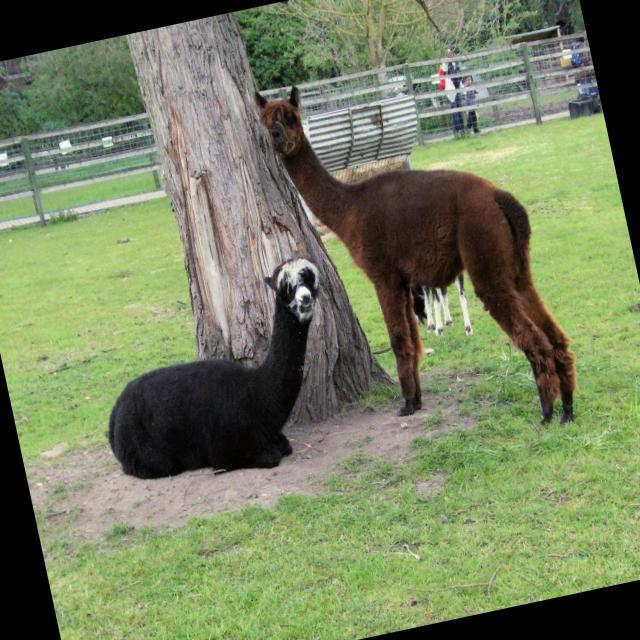alpaca: (252, 36, 586, 473), (79, 252, 358, 502)
